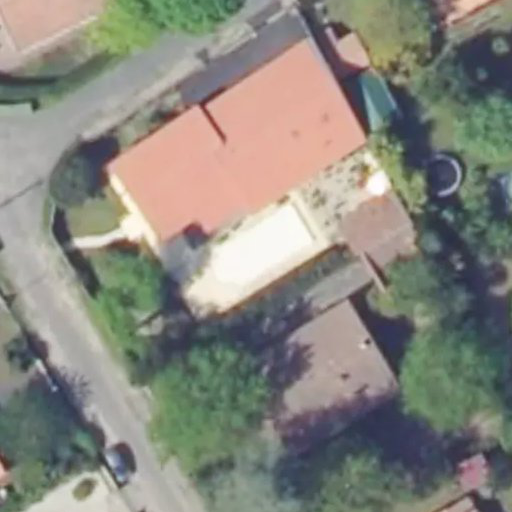pool: (209, 203, 323, 281)
